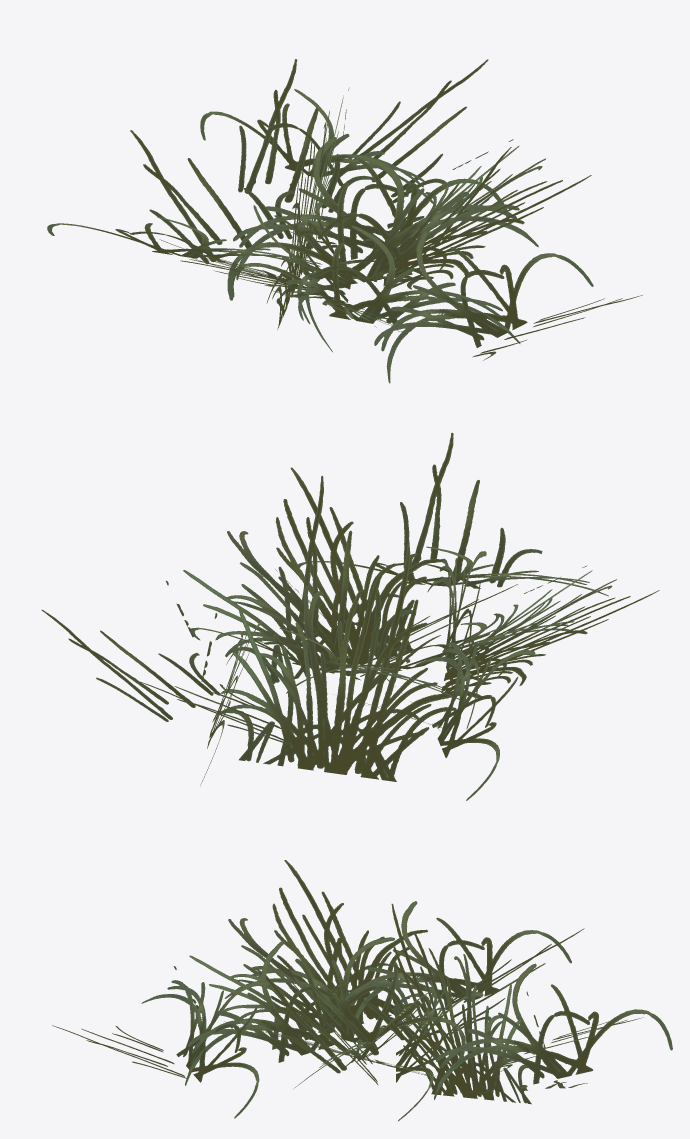
Rendered from arden_forest_grass_01_foliage.fbx.
The picture shows the model from 3 angles, top to bottom: view 1: azimuth 30°, elevation 25°; view 2: azimuth 150°, elevation 25°; view 3: azimuth 270°, elevation 25°; orthographic projection. The views are drawn at different scales.
Visible parts, largest first — view 1: arden_forest_grass_01_foliage; view 2: arden_forest_grass_01_foliage; view 3: arden_forest_grass_01_foliage.
Part boxes in pixels (x1=…): arden_forest_grass_01_foliage: x1=47, y1=59, x2=642, y2=383; arden_forest_grass_01_foliage: x1=41, y1=432, x2=659, y2=800; arden_forest_grass_01_foliage: x1=52, y1=860, x2=672, y2=1121.
Bounding box in the file's own units: 164 × 84.02 × 203.
1 material, 1 textured.
